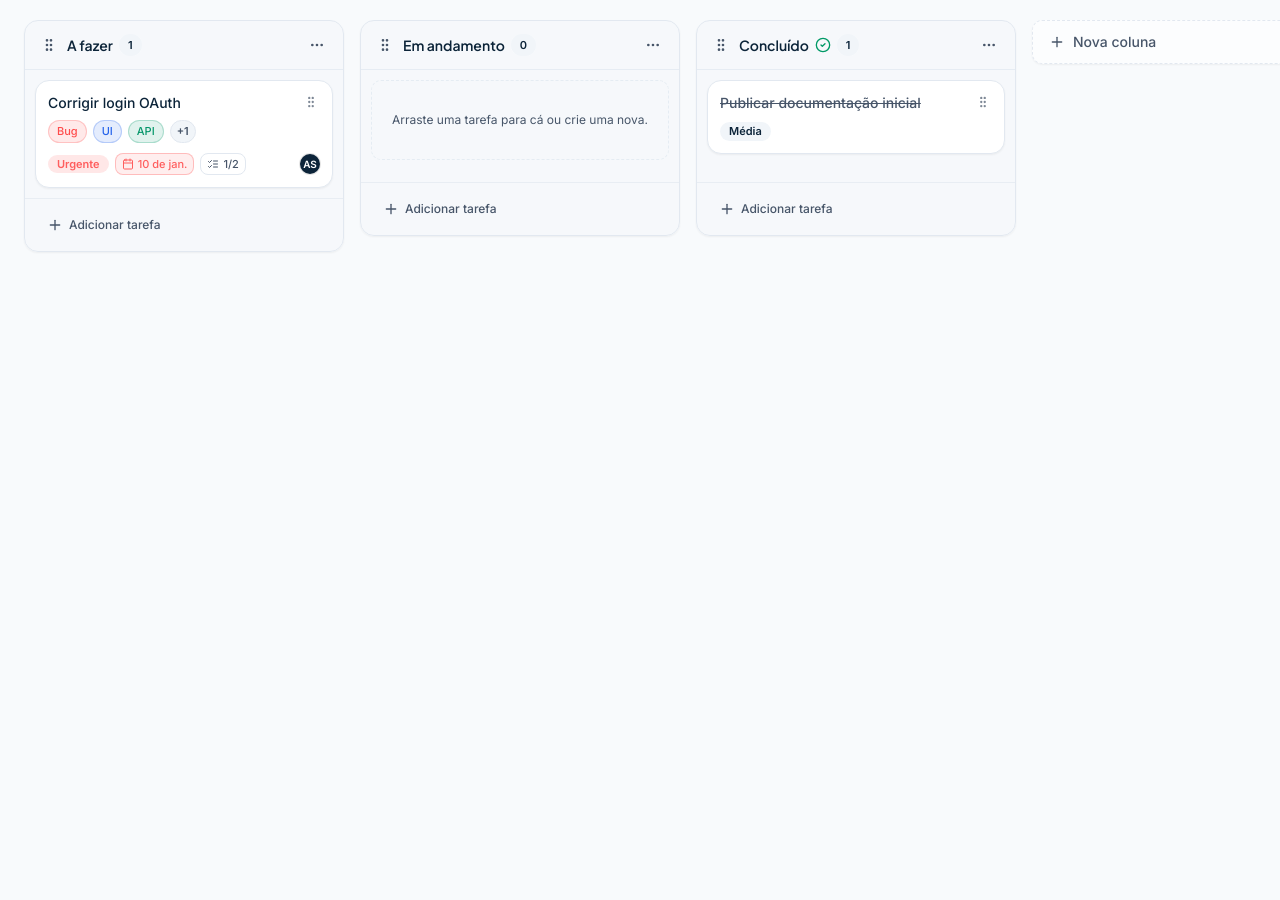
Test case: BoardKanbanView › deletingColumnWithTasksOpensColumnDeleteDialogAndPassesTargetColumnIdOrDeleteTasks
Later steps or results of the test are not shown.
# Open menu on "A fazer" (has task-1) and click Excluir coluna
Click the button named "opções da coluna a fazer" at {"x": 317, "y": 45}, box [303,31,331,59]
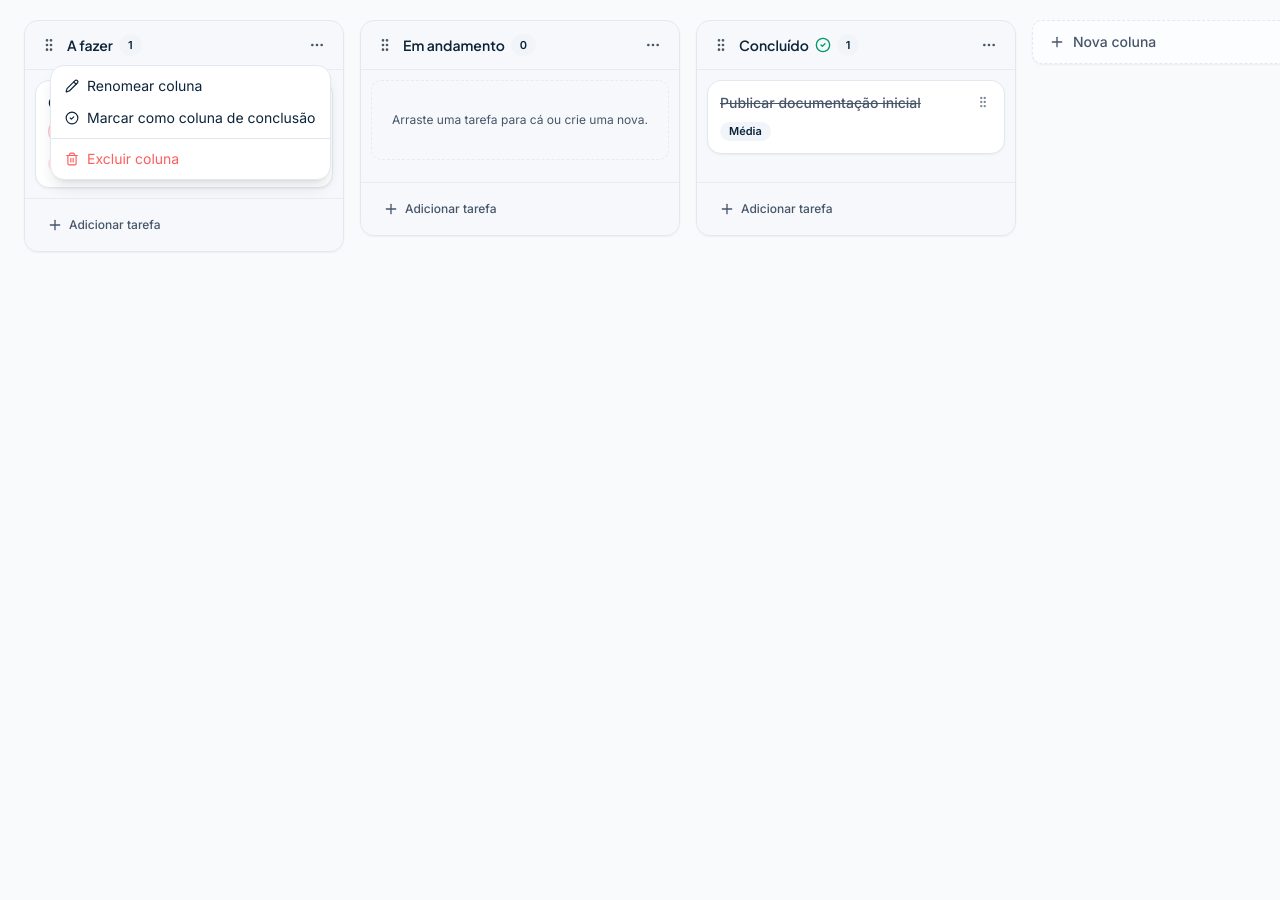
Click the menu item "Excluir coluna" at {"x": 122, "y": 158}, box [65,150,179,167]
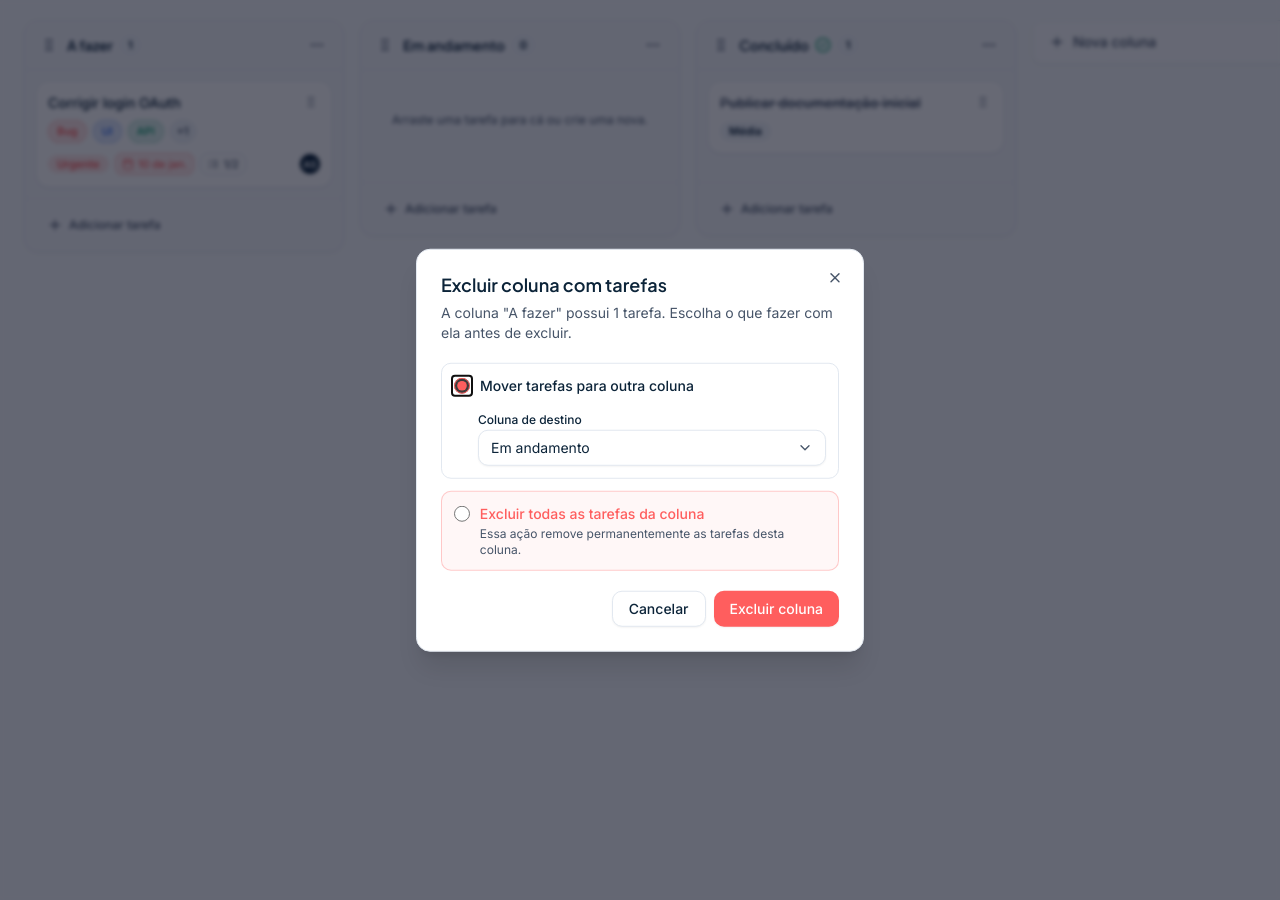
Now the heading "Excluir coluna com tarefas" is shown, box [441,273,667,296]
